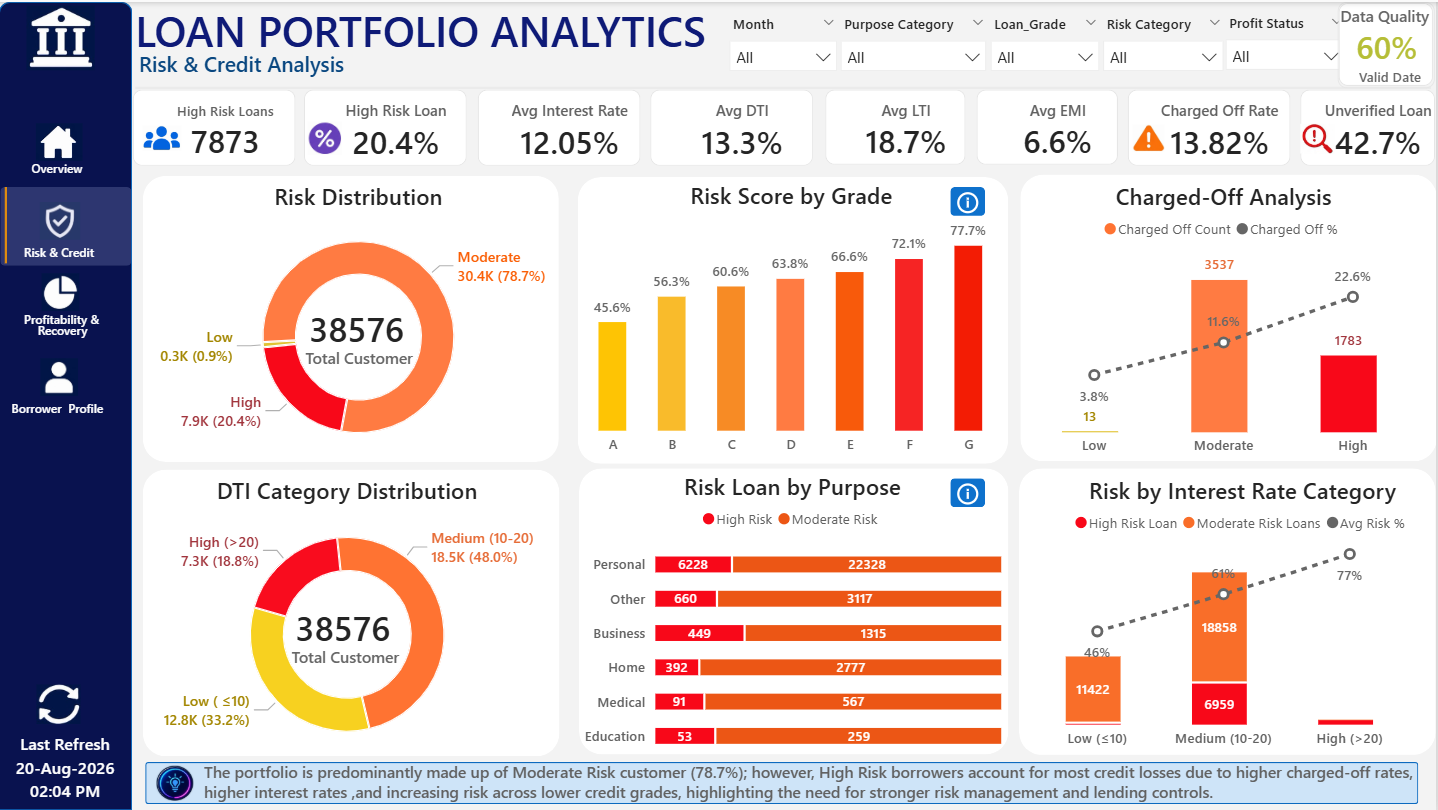

The dashboard page shown, as its layout file describes it:
{"tool":"powerbi","page":{"name":"Risk & Credit Analysis","canvas":[1280,720],"ordinal":1},"visuals":[{"type":"shape","box":[0,0,118.6,720],"z":0},{"type":"cardVisual","fields":{"Data":["_Measures.In-Valid Loans"]},"box":[1191.9,0,86.4,76.7],"z":0,"group":"g27"},{"type":"slicer","fields":{"Values":["Dim_Date.Month Name"]},"box":[645.3,11.5,105.7,56],"z":0,"group":"g25"},{"type":"cardVisual","fields":{"Data":["_Measures.High Risk Loans Count"]},"box":[118.9,77.8,145,68.2],"z":0,"group":"g30"},{"type":"cardVisual","fields":{"Data":["_Measures.High Risk Count %"]},"box":[271.9,77.8,145,68.2],"z":0,"group":"g32"},{"type":"cardVisual","fields":{"Data":["_Measures.Avg Interest Rate"]},"box":[425.9,77.8,145,68.2],"z":0,"group":"g33"},{"type":"cardVisual","fields":{"Data":["_Measures.Avg DTI"]},"box":[579.9,77.8,145,68.2],"z":0,"group":"g36"},{"type":"cardVisual","fields":{"Data":["_Measures.Charged Off Count %"]},"box":[1004.9,77.8,145,68.2],"z":0,"group":"g37"},{"type":"group","id":"g1","title":"Group 12","box":[1158.9,77.8,120.9,68.2],"z":0,"group":"g39"},{"type":"group","id":"g2","title":"Group 9","box":[1158.9,77.8,120.9,68.2],"z":0,"group":"g1"},{"type":"cardVisual","fields":{"Data":["_Measures.Unverified Borrowers %"]},"box":[1158.9,77.8,120.9,68.2],"z":0,"group":"g2"},{"type":"cardVisual","fields":{"Data":["_Measures.Avg EMI to Income"]},"box":[869.9,77.9,126.4,67.5],"z":0,"group":"g41"},{"type":"group","id":"g3","title":"Group 2","box":[20,107.8,66.8,47.3],"z":0,"group":"g12"},{"type":"group","id":"g4","title":"Group 1","box":[20,107.8,66.8,47.3],"z":0,"group":"g3"},{"type":"image","box":[20,107.8,66.8,33.4],"z":0,"group":"g4"},{"type":"shape","box":[128,154.7,370.7,254.9],"z":0,"group":"g19"},{"type":"group","id":"g5","title":"Group 31","box":[846.4,164.5,31.7,26],"z":0,"group":"g31"},{"type":"group","id":"g6","title":"Group 1","box":[1,165,116.9,70.1],"z":0,"group":"g14"},{"type":"image","box":[21,178.3,66.8,33.4],"z":0,"group":"g6"},{"type":"group","id":"g7","title":"Group 5","box":[21,241.1,76.9,61.1],"z":0,"group":"g16"},{"type":"group","id":"g8","title":"Group 1","box":[21,241.1,76.9,52.6],"z":0,"group":"g13"},{"type":"image","box":[21,241.1,66.8,33.4],"z":0,"group":"g8"},{"type":"textbox","box":[34,281,54.5,21.2],"z":0,"group":"g7"},{"type":"textbox","box":[271.9,307.1,105.3,33.2],"z":0,"group":"g38"},{"type":"group","id":"g9","title":"Group 2","box":[11,317.6,95,53.4],"z":0,"group":"g15"},{"type":"group","id":"g10","title":"Group 1","box":[11,317.6,95,53.4],"z":0,"group":"g9"},{"type":"image","box":[20,317.6,66.8,33.4],"z":0,"group":"g10"},{"type":"shape","box":[128,416,371.1,255.6],"z":0,"group":"g20"},{"type":"group","id":"g11","title":"Group 31","box":[846.4,424.2,31.7,26],"z":0,"group":"g29"},{"type":"textbox","box":[260,572.7,105.3,33.2],"z":0,"group":"g40"},{"type":"image","box":[24,0,61,64],"z":1000},{"type":"slicer","fields":{"Values":["Dim_Loan.Loan_Grade"]},"box":[877.7,11.5,106.7,56],"z":1000,"group":"g25"},{"type":"textbox","box":[1210.9,55.2,68.3,21.1],"z":1000,"group":"g27"},{"type":"image","box":[127.8,104.5,34.4,33.3],"z":1000,"group":"g30"},{"type":"image","box":[275.2,105.6,30,31.1],"z":1000,"group":"g32"},{"type":"image","box":[1009.3,106.7,27.8,28.9],"z":1000,"group":"g37"},{"type":"image","box":[1159,106.9,30,30],"z":1000,"group":"g2"},{"type":"group","id":"g12","title":"Group 3","box":[20,107.8,66.8,47.3],"z":1000,"group":"g15"},{"type":"pieChart","fields":{"Y":["CountNonNull(Dim_Loan.Loan_Grade)"]},"box":[822.4,154.4,76.5,49.1],"z":1000,"group":"g31"},{"type":"shape","box":[0,165,12.2,68],"z":1000,"group":"g14"},{"type":"shape","box":[1,165,116.9,70.1],"z":1000,"group":"g6"},{"type":"group","id":"g13","title":"Group 2","box":[21,241.1,76.9,52.6],"z":1000,"group":"g7"},{"type":"pieChart","fields":{"Y":["CountNonNull(Dim_Loan.Loan_Grade)"]},"box":[822.4,414.1,76.5,49.1],"z":1000,"group":"g29"},{"type":"shape","box":[908.9,415.6,371.1,255.6],"z":1000,"group":"g21"},{"type":"textbox","box":[1194,2.3,88.4,23.3],"z":2000,"group":"g27"},{"type":"shape","box":[121,73,1154,6],"z":2000},{"type":"cardVisual","fields":{"Data":["_Measures.Avg LTI"]},"box":[736.1,78.1,125.3,67.5],"z":2000,"group":"g42"},{"type":"textbox","box":[28.9,136.2,56.8,18.9],"z":2000,"group":"g4"},{"type":"donutChart","title":"Risk Distribution","fields":{"Y":["_Measures.Total Loan Count"],"Category":["Dim_Risk.Risk_Category"]},"box":[121.2,157.2,397.5,253.8],"z":2000,"group":"g19"},{"type":"group","id":"g14","title":"Group 2","box":[0,165,117.9,70.1],"z":2000,"group":"g15"},{"type":"textbox","box":[22.2,211.8,65.7,20],"z":2000,"group":"g6"},{"type":"textbox","box":[22.2,271.5,75.7,22.3],"z":2000,"group":"g8"},{"type":"textbox","box":[11,351,95,20],"z":2000,"group":"g10"},{"type":"shape","box":[516.2,415,382.5,255],"z":2000,"group":"g22"},{"type":"textbox","box":[121,0,522,50],"z":3000,"group":"g18"},{"type":"slicer","fields":{"Values":["Dim_Loan.Purpose_Category"]},"box":[744.1,11.5,139.7,56],"z":3000,"group":"g25"},{"type":"group","id":"g15","title":"Group 6","box":[0,107.8,117.9,263.2],"z":3000},{"type":"shape","box":[908.9,153.3,371.1,255.6],"z":3000,"group":"g35"},{"type":"group","id":"g16","title":"Group 4","box":[21,241.1,76.9,61.1],"z":3000,"group":"g15"},{"type":"slicer","fields":{"Values":["Dim_Risk.Risk_Category"]},"box":[978.5,11.5,116.7,56],"z":4000,"group":"g25"},{"type":"textbox","box":[124,42,216,25],"z":4000,"group":"g18"},{"type":"group","id":"g17","title":"Group 16","box":[118.9,77.8,1160.9,68.2],"z":4000},{"type":"slicer","fields":{"Values":["Dim_Loan.Profit_Status"]},"box":[1086.8,10,116.3,57],"z":4500,"group":"g25"},{"type":"group","id":"g18","title":"Group 17","box":[121,0,522,67],"z":5000},{"type":"pageNavigator","box":[0,93,106,299],"z":6000},{"type":"group","id":"g19","title":"Group 13","box":[121.2,154.7,397.5,256.2],"z":7000},{"type":"donutChart","title":"DTI Category Distribution ","fields":{"Y":["_Measures.Total Loan Count"],"Category":["Fact_Table.DTI_Category"]},"box":[111.2,418.5,397.5,258.8],"z":7000,"group":"g34"},{"type":"group","id":"g20","title":"Group 19","box":[111.2,416,397.5,261.3],"z":8000},{"type":"group","id":"g21","title":"Group 20","box":[905,415.6,405,255.6],"z":9000},{"type":"group","id":"g22","title":"Group 22","box":[516.2,153.3,763.8,520.4],"z":10000},{"type":"group","id":"g23","title":"Group 23","box":[509.1,155.6,389.8,255.6],"z":11000},{"type":"group","id":"g24","title":"Group 30","box":[0,608,118,112],"z":12000},{"type":"group","id":"g25","title":"Group 7","box":[645.3,10,557.7,57.4],"z":13000},{"type":"shape","box":[515.6,155.6,383.3,255.6],"z":13000,"group":"g23"},{"type":"group","id":"g26","title":"Group 24","box":[129.9,675.3,1182.1,38.8],"z":13000,"group":"g28"},{"type":"group","id":"g27","title":"Group 8","box":[1191.9,0,90.5,76.7],"z":14000},{"type":"lineClusteredColumnComboChart","title":"Risk Score by Grade","fields":{"Category":["Dim_Loan.Loan_Grade"],"Y":["_Measures.Avg Risk Score"]},"box":[509.1,155.7,389.7,250.9],"z":14000,"group":"g23"},{"type":"shape","box":[129.9,676.2,1133.8,37.5],"z":14500,"group":"g26"},{"type":"lineClusteredColumnComboChart","title":"Charged-Off Analysis","fields":{"Category":["Dim_Risk.Risk_Category"],"Y2":["_Measures.Charged Off Count %"],"Y":["_Measures.Charged Off Loan Count"]},"box":[900,156.2,380,251.2],"z":15000,"group":"g35"},{"type":"group","id":"g28","title":"Group 25","box":[129.9,675.3,1182.1,38.8],"z":15000},{"type":"textbox","box":[162,675.3,1150,38.8],"z":15000,"group":"g26"},{"type":"group","id":"g29","title":"Group 32","box":[822.4,414.1,76.5,49.1],"z":16000},{"type":"hundredPercentStackedBarChart","title":"Risk Loan by Purpose","fields":{"Category":["Dim_Loan.Purpose_Category"],"Y":["_Measures.High Risk Loans Count","_Measures.Moderate Risk Loans Count"]},"box":[516.2,415,376.2,258.8],"z":16000,"group":"g22"},{"type":"group","id":"g30","title":"Group 9","box":[118.9,77.8,145,68.2],"z":17000,"group":"g17"},{"type":"group","id":"g31","title":"Group 32","box":[822.4,154.4,76.5,49.1],"z":17000},{"type":"lineStackedColumnComboChart","title":"Risk by Interest Rate Category","fields":{"Y":["_Measures.High Risk Loans Count","_Measures.Moderate Risk Loans Count"],"Category":["Dim_Loan.Interest_Rate_Category"],"Y2":["_Measures.Avg Risk Score"]},"box":[905,418.8,405,250],"z":17000,"group":"g21"},{"type":"group","id":"g32","title":"Group 9","box":[271.9,77.8,145,68.2],"z":18000,"group":"g17"},{"type":"cardVisual","fields":{"Data":["_Measures.Last_Refresh"]},"box":[0,641,118,79],"z":18000,"group":"g24"},{"type":"group","id":"g33","title":"Group 9","box":[425.9,77.8,145,68.2],"z":19000,"group":"g17"},{"type":"group","id":"g34","title":"Group 18","box":[111.2,418.5,397.5,258.8],"z":19000,"group":"g20"},{"type":"image","box":[33,608,39,35],"z":19000,"group":"g24"},{"type":"actionButton","box":[846.4,164.5,31,26],"z":19001,"group":"g5"},{"type":"actionButton","box":[846.4,424.2,31,26],"z":19001,"group":"g11"},{"type":"group","id":"g35","title":"Group 21","box":[900,153.3,380,255.6],"z":19003,"group":"g22"},{"type":"group","id":"g36","title":"Group 9","box":[579.9,77.8,145,68.2],"z":20000,"group":"g17"},{"type":"cardVisual","fields":{"Data":["_Measures.Total Loan Count"]},"box":[266.9,264.2,103.8,52.8],"z":20002,"group":"g38"},{"type":"cardVisual","fields":{"Data":["_Measures.Total Loan Count"]},"box":[255,529.8,103.8,52.8],"z":20002,"group":"g40"},{"type":"image","box":[140,680.2,32.6,31.4],"z":20006,"group":"g28"},{"type":"group","id":"g37","title":"Group 9","box":[1004.9,77.8,145,68.2],"z":21000,"group":"g17"},{"type":"group","id":"g38","title":"Group 11","box":[266.9,264.2,110.3,76.1],"z":21000,"group":"g19"},{"type":"group","id":"g39","title":"Group 10","box":[1158.9,77.8,120.9,68.2],"z":22000,"group":"g17"},{"type":"group","id":"g40","title":"Group 11","box":[255,529.8,110,76.2],"z":22000,"group":"g34"},{"type":"group","id":"g41","title":"Group 14","box":[869.9,77.9,126.4,67.5],"z":23000,"group":"g17"},{"type":"group","id":"g42","title":"Group 15","box":[736.1,78.1,125.3,67.5],"z":24001,"group":"g17"}]}

Visuals, with their boxes on the page's 1280x720 design canvas (x1, y1, x2, y2). These are canvas units, not pixel positions in the 1438x810 screenshot, which may show the page scaled, cropped or inside an application window:
shape: <region>0, 0, 119, 720</region>
cardVisual - _Measures.In-Valid Loans: <region>1192, 0, 1278, 77</region>
slicer - Dim_Date.Month Name: <region>645, 12, 751, 68</region>
cardVisual - _Measures.High Risk Loans Count: <region>119, 78, 264, 146</region>
cardVisual - _Measures.High Risk Count %: <region>272, 78, 417, 146</region>
cardVisual - _Measures.Avg Interest Rate: <region>426, 78, 571, 146</region>
cardVisual - _Measures.Avg DTI: <region>580, 78, 725, 146</region>
cardVisual - _Measures.Charged Off Count %: <region>1005, 78, 1150, 146</region>
"Group 12" group: <region>1159, 78, 1280, 146</region>
"Group 9" group: <region>1159, 78, 1280, 146</region>
cardVisual - _Measures.Unverified Borrowers %: <region>1159, 78, 1280, 146</region>
cardVisual - _Measures.Avg EMI to Income: <region>870, 78, 996, 145</region>
"Group 2" group: <region>20, 108, 87, 155</region>
"Group 1" group: <region>20, 108, 87, 155</region>
image: <region>20, 108, 87, 141</region>
shape: <region>128, 155, 499, 410</region>
"Group 31" group: <region>846, 164, 878, 190</region>
"Group 1" group: <region>1, 165, 118, 235</region>
image: <region>21, 178, 88, 212</region>
"Group 5" group: <region>21, 241, 98, 302</region>
"Group 1" group: <region>21, 241, 98, 294</region>
image: <region>21, 241, 88, 274</region>
textbox: <region>34, 281, 88, 302</region>
textbox: <region>272, 307, 377, 340</region>
"Group 2" group: <region>11, 318, 106, 371</region>
"Group 1" group: <region>11, 318, 106, 371</region>
image: <region>20, 318, 87, 351</region>
shape: <region>128, 416, 499, 672</region>
"Group 31" group: <region>846, 424, 878, 450</region>
textbox: <region>260, 573, 365, 606</region>
image: <region>24, 0, 85, 64</region>
slicer - Dim_Loan.Loan_Grade: <region>878, 12, 984, 68</region>
textbox: <region>1211, 55, 1279, 76</region>
image: <region>128, 104, 162, 138</region>
image: <region>275, 106, 305, 137</region>
image: <region>1009, 107, 1037, 136</region>
image: <region>1159, 107, 1189, 137</region>
"Group 3" group: <region>20, 108, 87, 155</region>
pieChart - CountNonNull(Dim_Loan.Loan_Grade): <region>822, 154, 899, 204</region>
shape: <region>0, 165, 12, 233</region>
shape: <region>1, 165, 118, 235</region>
"Group 2" group: <region>21, 241, 98, 294</region>
pieChart - CountNonNull(Dim_Loan.Loan_Grade): <region>822, 414, 899, 463</region>
shape: <region>909, 416, 1280, 671</region>
textbox: <region>1194, 2, 1282, 26</region>
shape: <region>121, 73, 1275, 79</region>
cardVisual - _Measures.Avg LTI: <region>736, 78, 861, 146</region>
textbox: <region>29, 136, 86, 155</region>
"Risk Distribution" donutChart: <region>121, 157, 519, 411</region>
"Group 2" group: <region>0, 165, 118, 235</region>
textbox: <region>22, 212, 88, 232</region>
textbox: <region>22, 272, 98, 294</region>
textbox: <region>11, 351, 106, 371</region>
shape: <region>516, 415, 899, 670</region>
textbox: <region>121, 0, 643, 50</region>
slicer - Dim_Loan.Purpose_Category: <region>744, 12, 884, 68</region>
"Group 6" group: <region>0, 108, 118, 371</region>
shape: <region>909, 153, 1280, 409</region>
"Group 4" group: <region>21, 241, 98, 302</region>
slicer - Dim_Risk.Risk_Category: <region>978, 12, 1095, 68</region>
textbox: <region>124, 42, 340, 67</region>
"Group 16" group: <region>119, 78, 1280, 146</region>
slicer - Dim_Loan.Profit_Status: <region>1087, 10, 1203, 67</region>
"Group 17" group: <region>121, 0, 643, 67</region>
pageNavigator: <region>0, 93, 106, 392</region>
"Group 13" group: <region>121, 155, 519, 411</region>
"DTI Category Distribution " donutChart: <region>111, 418, 509, 677</region>
"Group 19" group: <region>111, 416, 509, 677</region>
"Group 20" group: <region>905, 416, 1310, 671</region>
"Group 22" group: <region>516, 153, 1280, 674</region>
"Group 23" group: <region>509, 156, 899, 411</region>
"Group 30" group: <region>0, 608, 118, 720</region>
"Group 7" group: <region>645, 10, 1203, 67</region>
shape: <region>516, 156, 899, 411</region>
"Group 24" group: <region>130, 675, 1312, 714</region>
"Group 8" group: <region>1192, 0, 1282, 77</region>
"Risk Score by Grade" lineClusteredColumnComboChart: <region>509, 156, 899, 407</region>
shape: <region>130, 676, 1264, 714</region>
"Charged-Off Analysis" lineClusteredColumnComboChart: <region>900, 156, 1280, 407</region>
"Group 25" group: <region>130, 675, 1312, 714</region>
textbox: <region>162, 675, 1312, 714</region>
"Group 32" group: <region>822, 414, 899, 463</region>
"Risk Loan by Purpose" hundredPercentStackedBarChart: <region>516, 415, 892, 674</region>
"Group 9" group: <region>119, 78, 264, 146</region>
"Group 32" group: <region>822, 154, 899, 204</region>
"Risk by Interest Rate Category" lineStackedColumnComboChart: <region>905, 419, 1310, 669</region>
"Group 9" group: <region>272, 78, 417, 146</region>
cardVisual - _Measures.Last_Refresh: <region>0, 641, 118, 720</region>
"Group 9" group: <region>426, 78, 571, 146</region>
"Group 18" group: <region>111, 418, 509, 677</region>
image: <region>33, 608, 72, 643</region>
actionButton: <region>846, 164, 877, 190</region>
actionButton: <region>846, 424, 877, 450</region>
"Group 21" group: <region>900, 153, 1280, 409</region>
"Group 9" group: <region>580, 78, 725, 146</region>
cardVisual - _Measures.Total Loan Count: <region>267, 264, 371, 317</region>
cardVisual - _Measures.Total Loan Count: <region>255, 530, 359, 583</region>
image: <region>140, 680, 173, 712</region>
"Group 9" group: <region>1005, 78, 1150, 146</region>
"Group 11" group: <region>267, 264, 377, 340</region>
"Group 10" group: <region>1159, 78, 1280, 146</region>
"Group 11" group: <region>255, 530, 365, 606</region>
"Group 14" group: <region>870, 78, 996, 145</region>
"Group 15" group: <region>736, 78, 861, 146</region>
